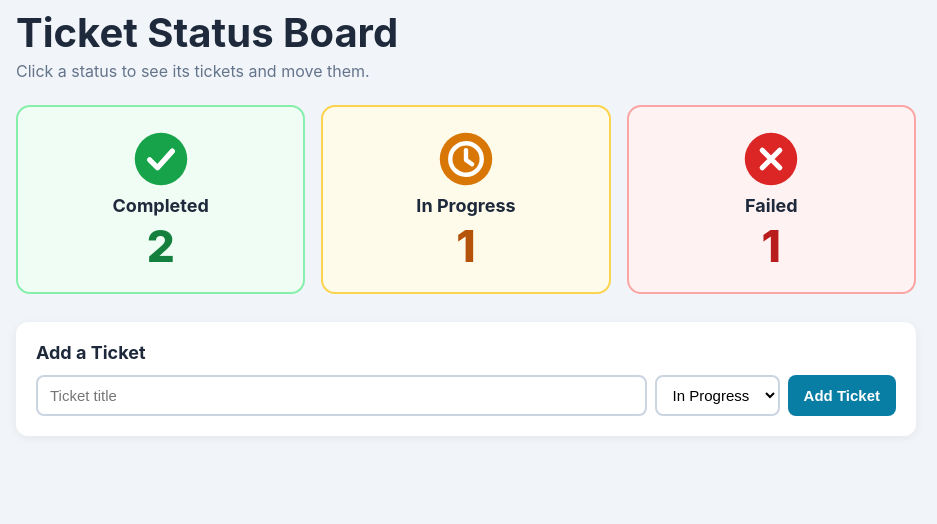
it: clicking a status shows its tickets
Click the button "Failed 1" at (771, 200), box [629,107,914,292]
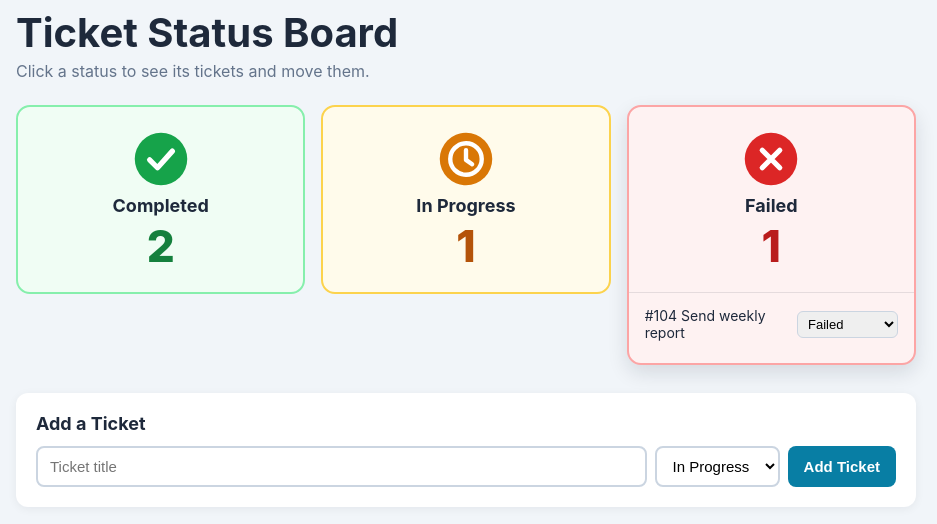
Result: the text "#104 Send weekly report" is shown at [645,307,766,341]
